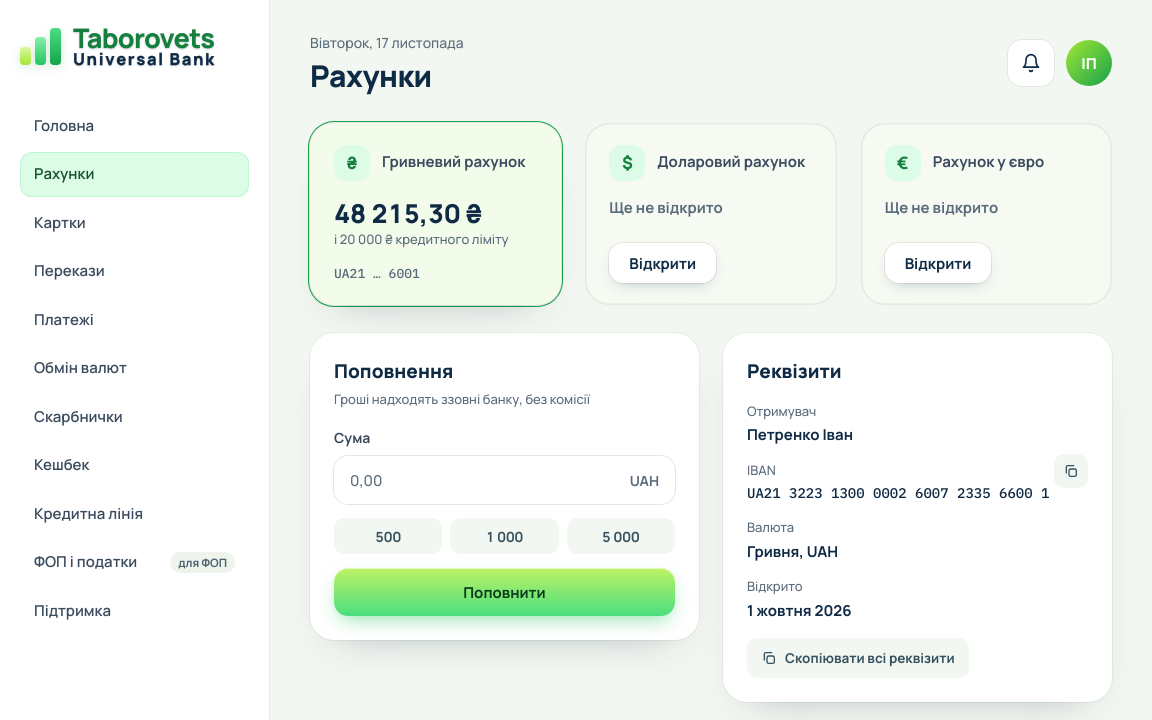
AccountsPage › opens an account in a currency the client does not have yet and switches to it
Expected: the text "Ще не відкрито" below "Доларовий рахунок" is shown, [609,196,723,218]
Click the button "Відкрити" below "Доларовий рахунок" at point(663, 263), box [609,243,716,283]
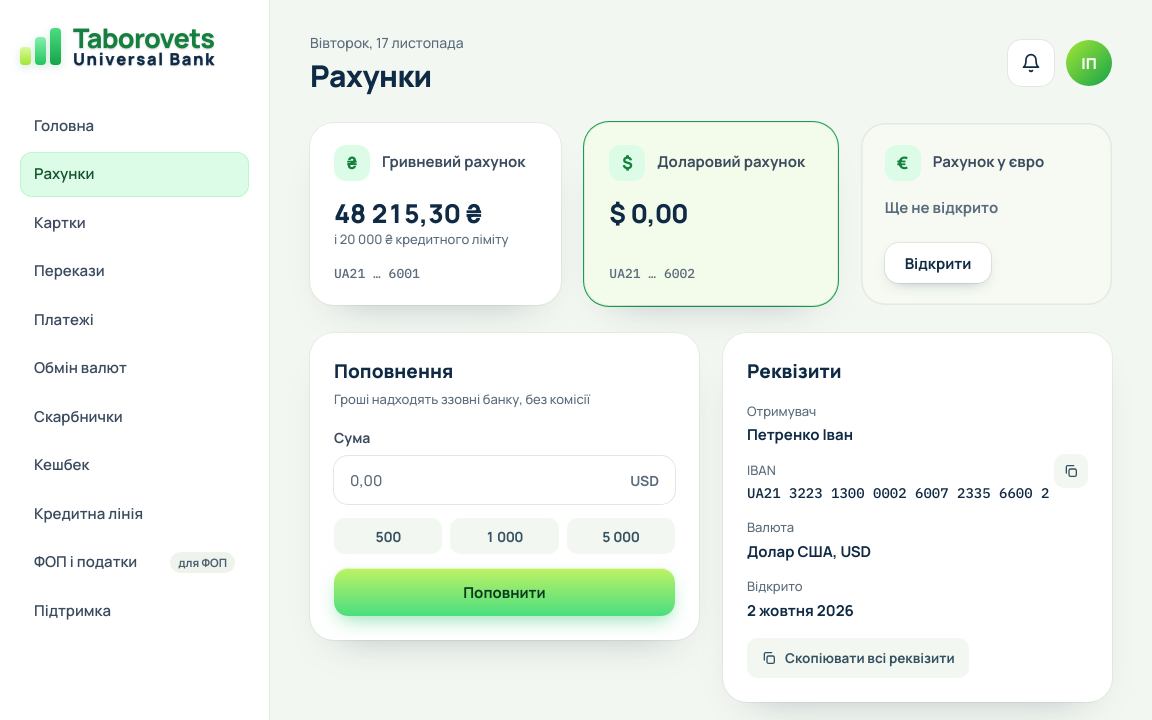
Result: the button "$ Доларовий рахунок $ 0,00 UA21 … 6002" is shown at [585,122,837,305]
